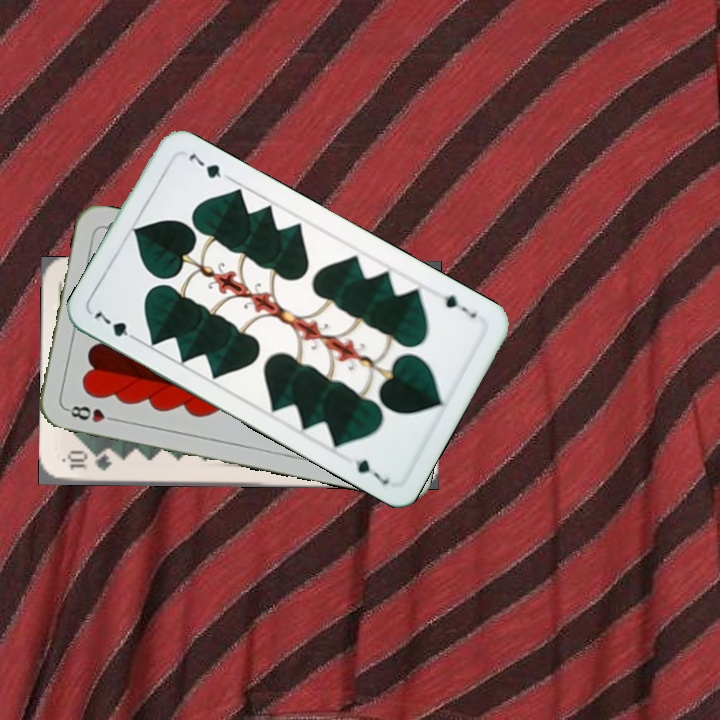G10: (63, 450, 114, 473)
G7: (90, 307, 143, 344), (439, 290, 479, 321)
H8: (62, 401, 121, 425)
